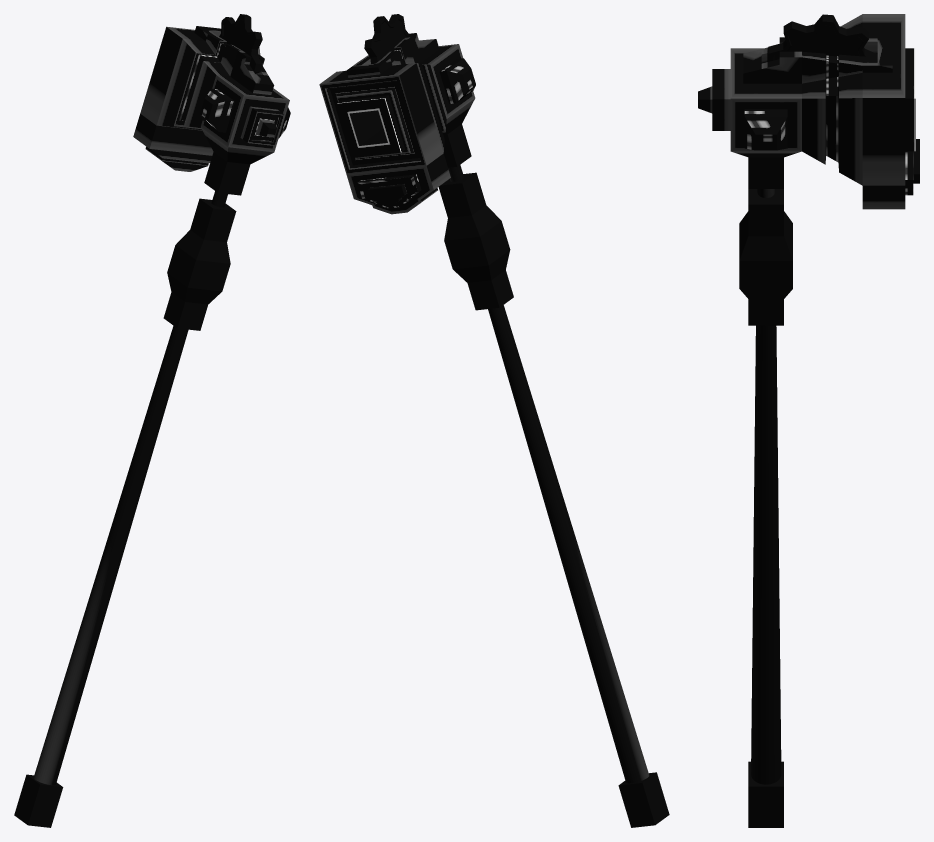
The model's file is Dispenser_2_0.fbx.
3 renders of one model, left to right at view 1: azimuth 30°, elevation 25°; view 2: azimuth 150°, elevation 25°; view 3: azimuth 270°, elevation 25°, orthographic. The views are drawn at different scales.
Parts seen in each view (by area): view 1: Dispenser, Dispenser_Prop_0, Dispenser_Prop_1, Gear; view 2: Dispenser, Dispenser_Prop_0, Dispenser_Prop_1, Gear; view 3: Dispenser, Dispenser_Prop_0, Dispenser_Prop_1, Gear.
Part boxes in pixels (left/top/right/bottom): Dispenser: left=133, top=26, right=290, bottom=171; Dispenser_Prop_0: left=14, top=152, right=250, bottom=827; Dispenser_Prop_1: left=163, top=198, right=236, bottom=330; Gear: left=219, top=14, right=262, bottom=73; Dispenser: left=319, top=33, right=475, bottom=214; Dispenser_Prop_0: left=443, top=124, right=669, bottom=827; Dispenser_Prop_1: left=438, top=172, right=513, bottom=310; Gear: left=364, top=14, right=410, bottom=63; Dispenser: left=698, top=14, right=919, bottom=209; Dispenser_Prop_0: left=748, top=157, right=783, bottom=827; Dispenser_Prop_1: left=739, top=189, right=792, bottom=325; Gear: left=767, top=14, right=877, bottom=61.
Size of the model in its own units: 3.4 by 8.66 by 1.83.
Materials: 1 (1 with a texture image).
